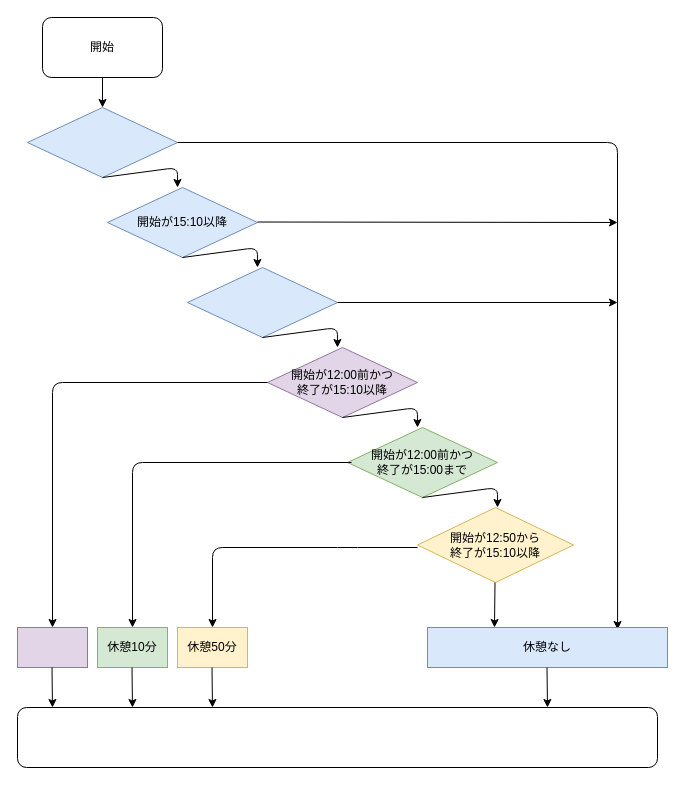
The diagram is 685 pixels wide and 785 high, and some of its shapes have lost their labels. The shapes that lost their labels are listed below. From the top down, each one's centre as x and y in pixels, then its label:
the point at 102,142: 終了が12:00以前
the point at 262,302: 開始が12:50から 終了が15:00まで
the point at 52,647: 休憩60分
the point at 337,737: 終了
